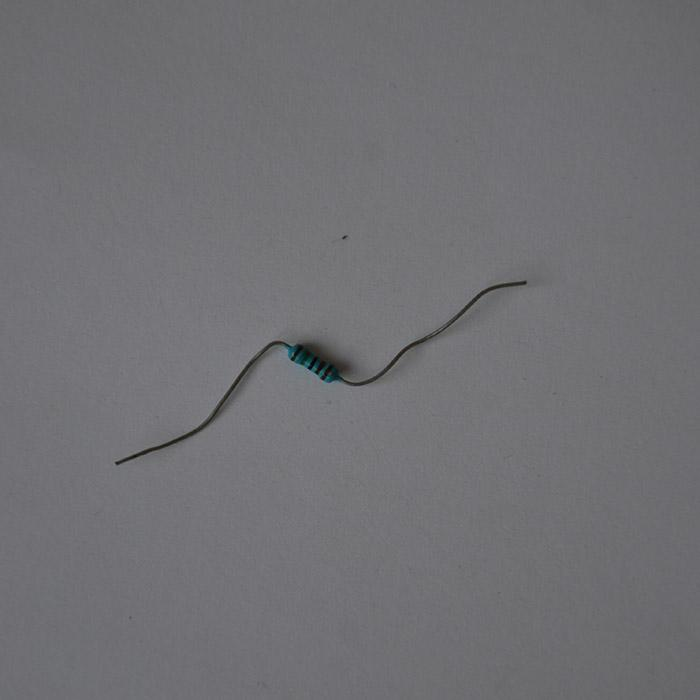resistor: (286, 342, 340, 386)
